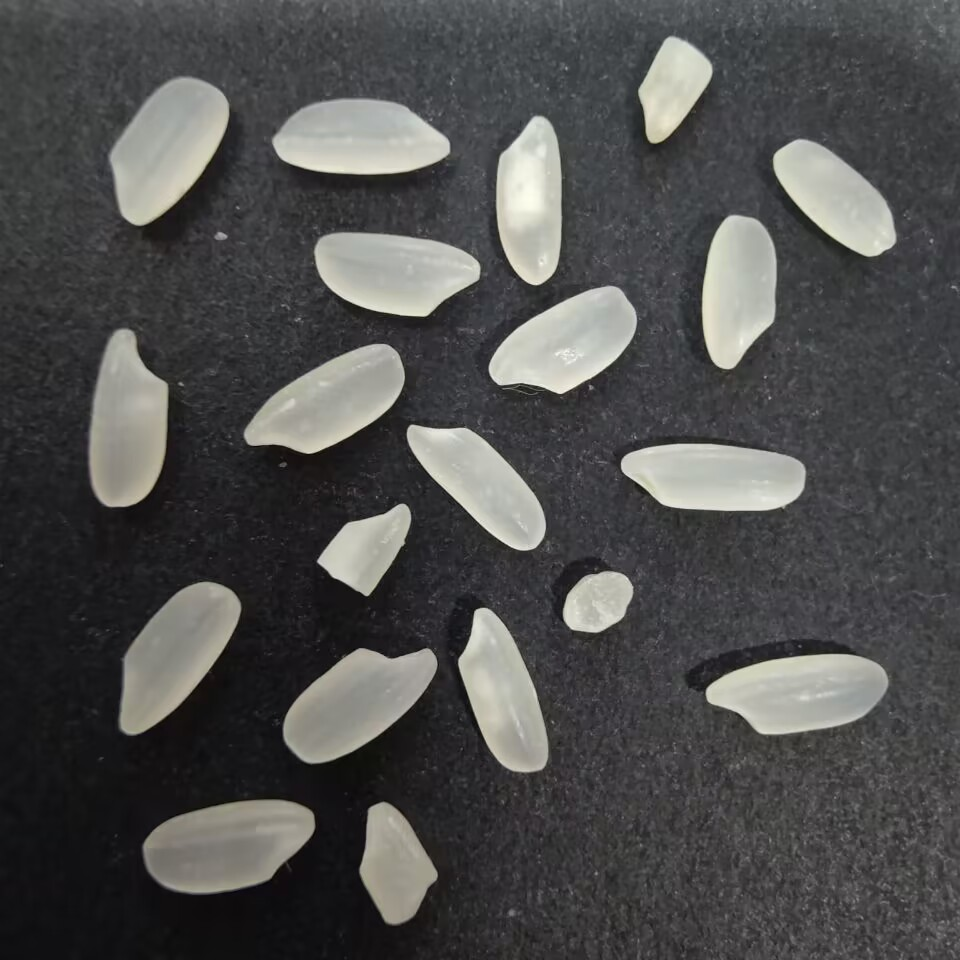broken: (352, 797, 443, 927), (313, 498, 417, 600), (632, 32, 717, 146), (554, 566, 637, 637)
rice: (108, 577, 244, 742), (277, 643, 441, 769), (106, 70, 235, 229), (402, 418, 552, 554), (237, 341, 408, 454), (138, 793, 321, 896), (481, 282, 644, 396), (697, 648, 897, 738), (83, 320, 177, 510), (454, 601, 553, 777), (308, 224, 484, 322), (767, 136, 903, 261), (266, 94, 457, 178), (612, 441, 813, 514), (493, 111, 569, 289), (695, 212, 779, 373)
